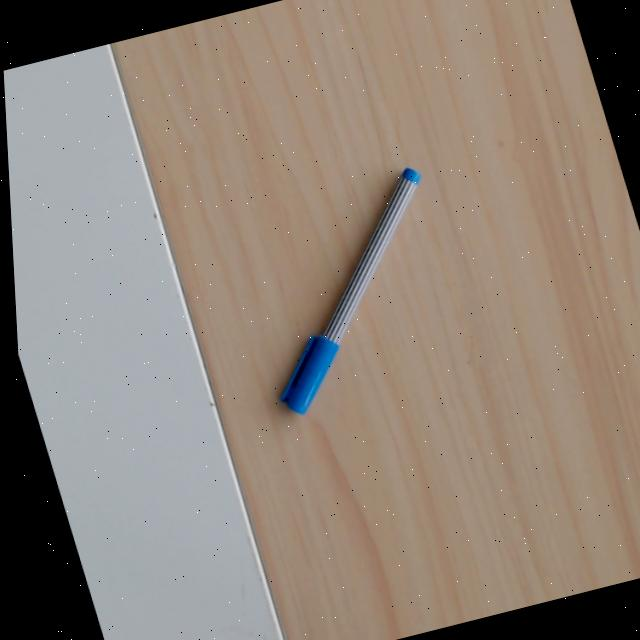Pulpen-Garis-Biru: (275, 161, 429, 417)
